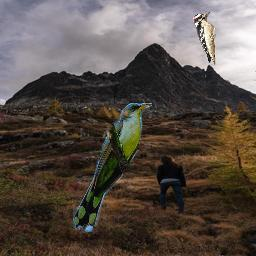Cuckoo: (73, 103, 152, 232)
Woodpecker: (193, 12, 216, 65)
